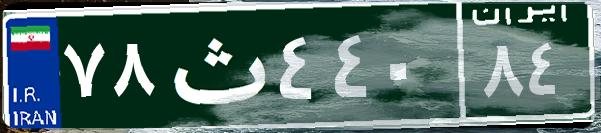0: (385, 28, 445, 110)
4: (273, 28, 330, 110), (330, 28, 385, 110), (525, 38, 570, 115)
7: (57, 26, 110, 107)
8: (475, 38, 525, 113), (110, 28, 158, 105)
ث: (158, 15, 273, 115)
